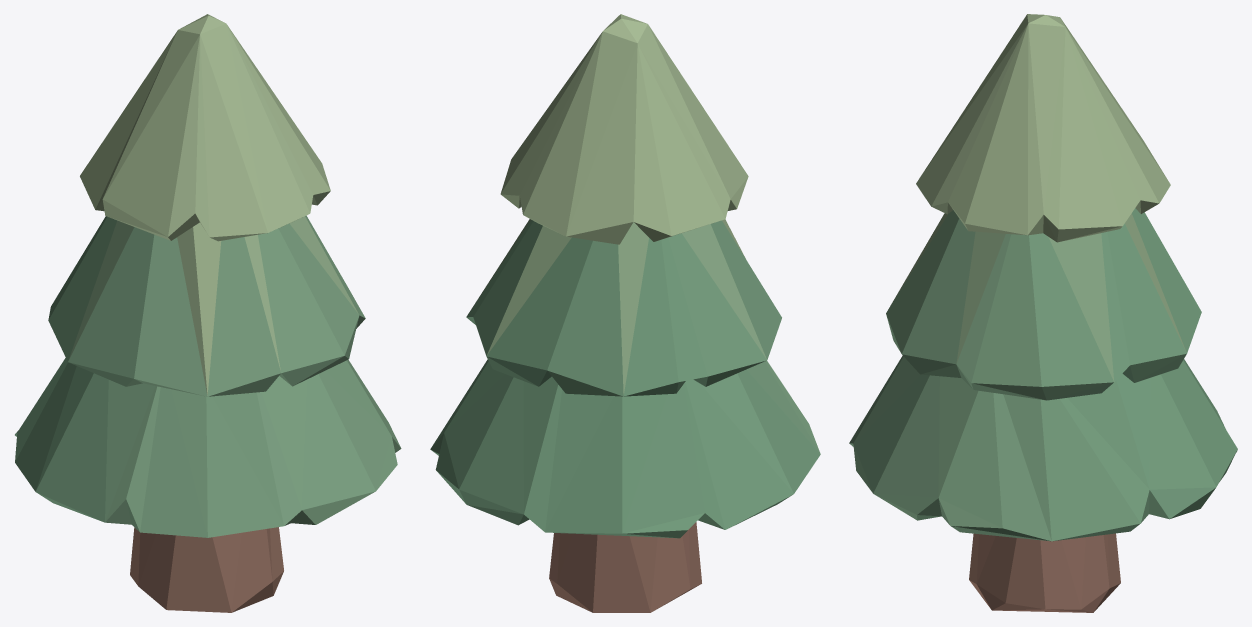
File: tree_pine.glb
The picture shows the model from 3 angles, left to right: view 1: azimuth 30°, elevation 25°; view 2: azimuth 150°, elevation 25°; view 3: azimuth 270°, elevation 25°; orthographic projection.
Parts seen in each view (by area): view 1: scenery; view 2: scenery; view 3: scenery.
Part boxes in pixels (bbox=[...]): scenery: bbox=[15, 14, 401, 612]; scenery: bbox=[430, 14, 820, 612]; scenery: bbox=[849, 14, 1237, 612].
Size of the model in its own units: 0.62 by 1 by 0.6103.
